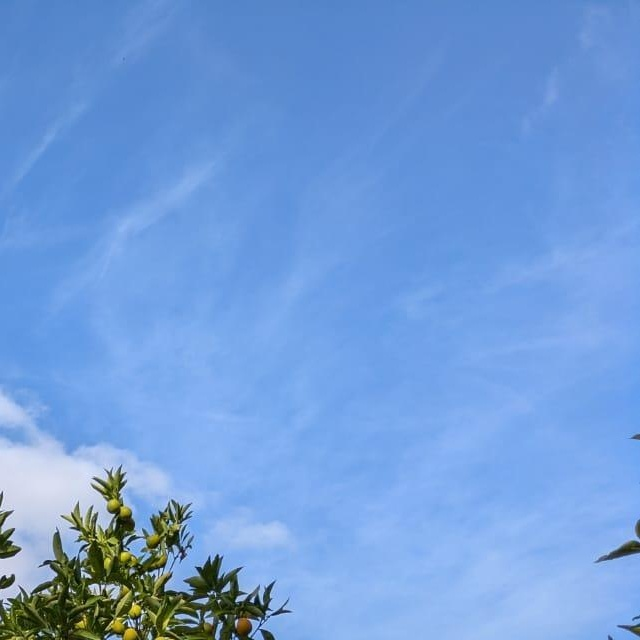orange: (234, 615, 254, 635), (125, 604, 143, 620), (143, 531, 159, 549), (110, 619, 128, 633), (105, 498, 121, 512), (117, 505, 131, 521), (197, 622, 213, 636), (122, 627, 138, 640), (116, 550, 130, 564), (150, 636, 170, 640)
